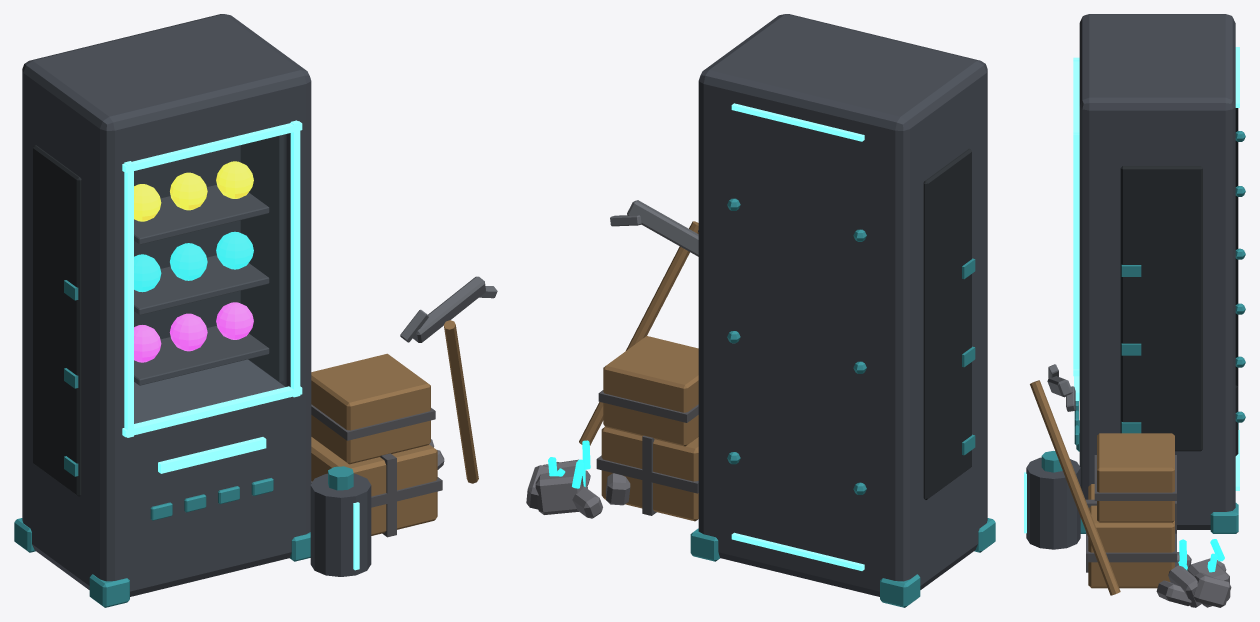
File: LM_Station_SurfaceKiosk_01.glb
3 renders of one model, left to right at view 1: azimuth 30°, elevation 25°; view 2: azimuth 150°, elevation 25°; view 3: azimuth 270°, elevation 25°, orthographic. The views are drawn at different scales.
Visible parts, largest first — view 1: Kiosk_Body, Glass, SidePanel_-1, Crate_Top, DispWall_R, Display_Back, FuelCan, Crate_Bot, Shelf_1, Shelf_2, Shelf_0, Neon_R (+19 smaller); view 2: Kiosk_Body, SidePanel_-1, Crate_Top, Crate_Bot, Pick_Handle, Ore_4, Pick_Head, Crate_Bot_StrapX, BackNeonTop, BackNeonBot, Crate_Top_Strap, Bracket_-1_1 (+4 smaller); view 3: Kiosk_Body, SidePanel_1, Crate_Top, Crate_Bot, FuelCan, Pick_Handle, Neon_R, BackPanel, Crate_Bot_StrapX, Ore_3, Crate_Top_Strap, Bracket_1_1 (+6 smaller).
Part boxes in pixels (left/top/right/bottom): Kiosk_Body: left=22, top=14, right=311, bottom=596; Glass: left=134, top=135, right=285, bottom=423; SidePanel_-1: left=33, top=145, right=81, bottom=496; Crate_Top: left=311, top=353, right=430, bottom=464; DispWall_R: left=240, top=134, right=283, bottom=381; Display_Back: left=134, top=145, right=240, bottom=339; FuelCan: left=310, top=473, right=371, bottom=576; Crate_Bot: left=311, top=437, right=437, bottom=535; Shelf_1: left=134, top=255, right=269, bottom=315; Shelf_2: left=134, top=325, right=269, bottom=385; Shelf_0: left=134, top=185, right=269, bottom=244; Neon_R: left=290, top=120, right=300, bottom=397; Kiosk_Body: left=698, top=14, right=987, bottom=596; SidePanel_-1: left=923, top=148, right=971, bottom=499; Crate_Top: left=603, top=336, right=698, bottom=446; Crate_Bot: left=601, top=427, right=698, bottom=521; Pick_Handle: left=579, top=221, right=698, bottom=445; Ore_4: left=535, top=468, right=583, bottom=514; Pick_Head: left=627, top=200, right=698, bottom=256; Crate_Bot_StrapX: left=596, top=455, right=698, bottom=493; BackNeonTop: left=731, top=103, right=864, bottom=141; BackNeonBot: left=731, top=532, right=864, bottom=570; Crate_Top_Strap: left=598, top=390, right=698, bottom=422; Bracket_-1_1: left=880, top=574, right=920, bottom=607; Kiosk_Body: left=1079, top=14, right=1235, bottom=529; SidePanel_1: left=1120, top=166, right=1202, bottom=451; Crate_Top: left=1097, top=433, right=1174, bottom=522; Crate_Bot: left=1088, top=484, right=1174, bottom=588; FuelCan: left=1026, top=457, right=1080, bottom=549; Pick_Handle: left=1030, top=380, right=1120, bottom=595; Neon_R: left=1073, top=130, right=1079, bottom=369; BackPanel: left=1235, top=108, right=1238, bottom=455; Crate_Bot_StrapX: left=1086, top=533, right=1176, bottom=562; Ore_3: left=1193, top=572, right=1231, bottom=607; Crate_Top_Strap: left=1094, top=455, right=1176, bottom=500; Bracket_1_1: left=1210, top=503, right=1238, bottom=533.
Bounding box in the file's own units: 1.9 × 2.22 × 1.02.
